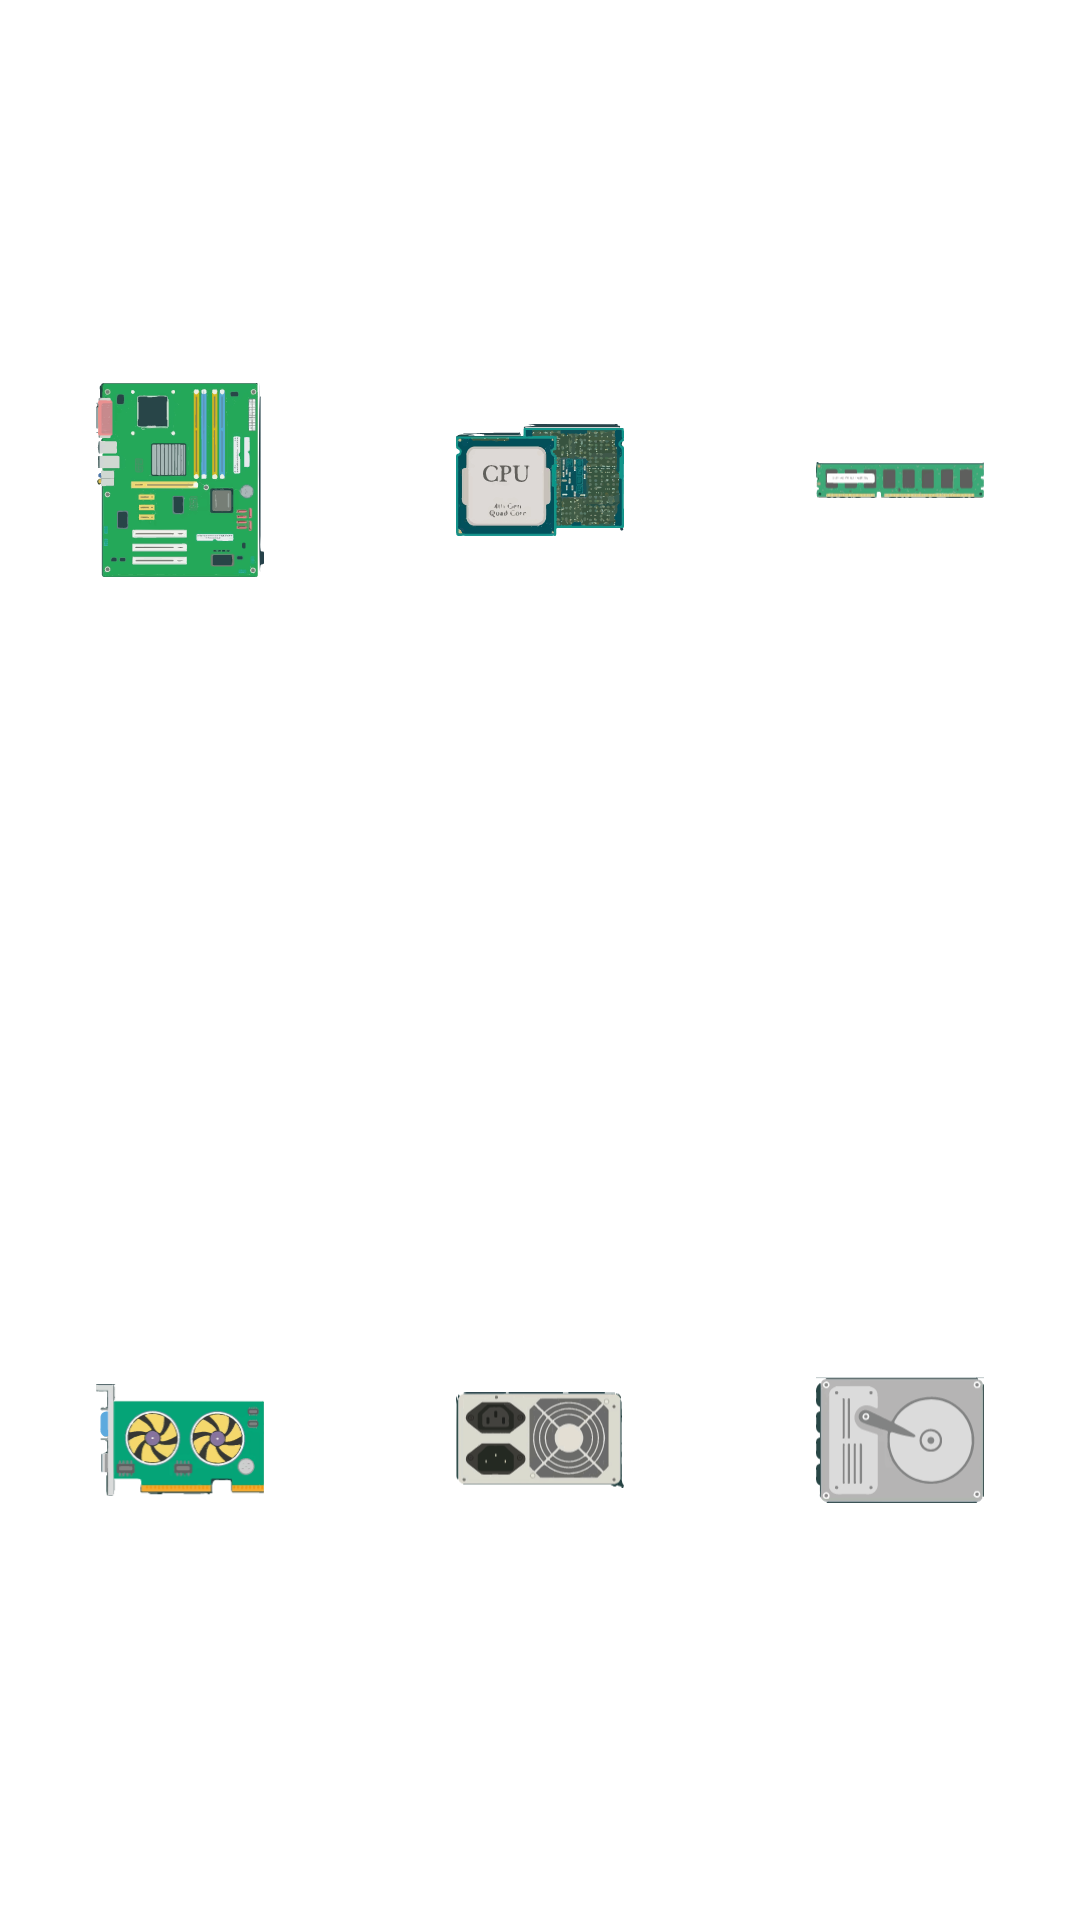

Point at icon controls on the screen. Image size 1080px×1920px, points as [x,y].
blok pitania: [540,1440]
harddisk: [900,1440]
materinskaia plata: [180,480]
ram: [900,480]
videokarta: [180,1440]
